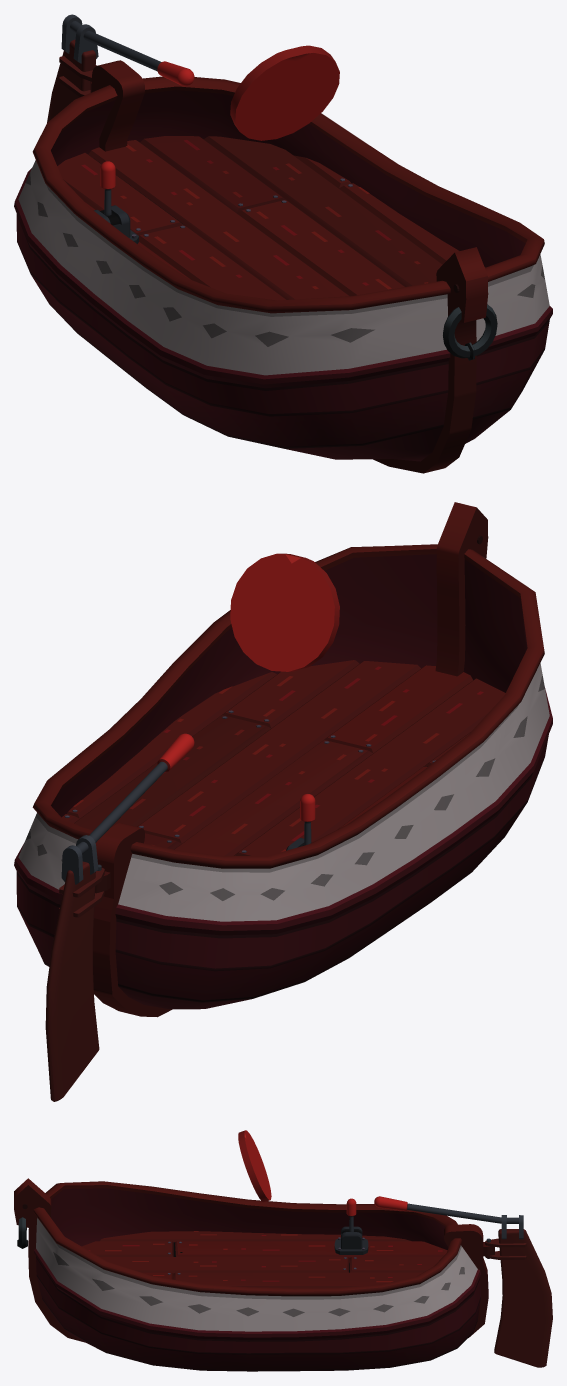
The model's file is Boat.fbx.
The picture shows the model from 3 angles, top to bottom: view 1: azimuth 30°, elevation 25°; view 2: azimuth 150°, elevation 25°; view 3: azimuth 270°, elevation 25°; orthographic projection. The views are drawn at different scales.
Visible parts, largest first — view 1: Boat, Boat_StearingWheel, Boat_Rudder, Boat_GasLever; view 2: Boat, Boat_Rudder, Boat_StearingWheel; view 3: Boat, Boat_Rudder, Boat_StearingWheel.
Boxes of the visible parts, left/top/right/bottom form: Boat: left=14, top=60, right=552, bottom=473; Boat_StearingWheel: left=230, top=45, right=339, bottom=140; Boat_Rudder: left=47, top=14, right=194, bottom=122; Boat_GasLever: left=100, top=161, right=115, bottom=215; Boat: left=14, top=502, right=552, bottom=1017; Boat_Rudder: left=45, top=733, right=194, bottom=1101; Boat_StearingWheel: left=230, top=553, right=339, bottom=671; Boat: left=14, top=1178, right=494, bottom=1371; Boat_Rudder: left=374, top=1196, right=552, bottom=1367; Boat_StearingWheel: left=238, top=1130, right=271, bottom=1202.
Bounding box in the file's own units: 204 × 214 × 449.
